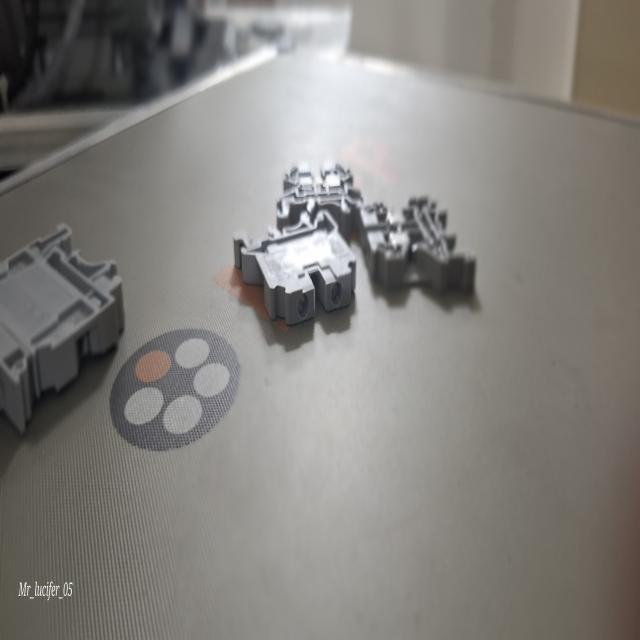Inverted: (229, 197, 363, 341)
